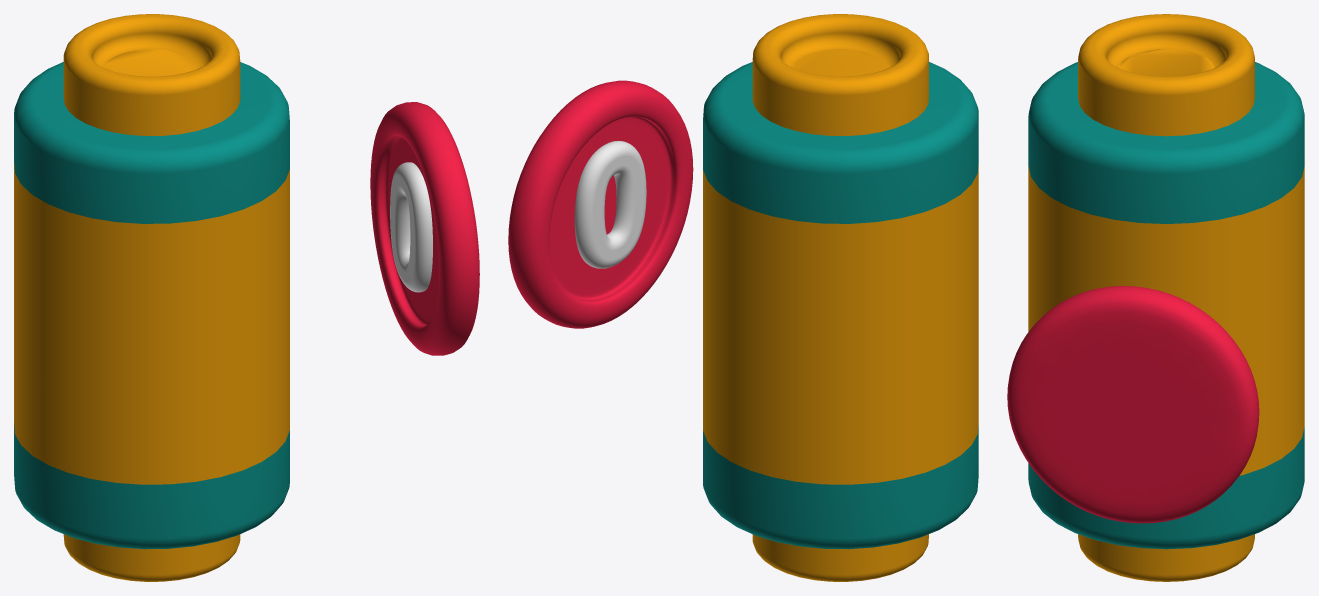
Rendered from empty-camera-roll-3d-animated-icon-1515088763290.glb.
3 views of the same model, side by side, from view 1: azimuth 30°, elevation 25°; view 2: azimuth 150°, elevation 25°; view 3: azimuth 270°, elevation 25° (orthographic).
Visible parts, largest first — view 1: CAMERA ROLL, Cylinder.001, X SIGN, Text; view 2: CAMERA ROLL, X SIGN, Cylinder.001, Text; view 3: CAMERA ROLL, X SIGN, Cylinder.001.
Part boxes in pixels (<box>): CAMERA ROLL: <box>14,62,289,549</box>; Cylinder.001: <box>63,14,240,581</box>; X SIGN: <box>370,102,479,355</box>; Text: <box>390,162,432,292</box>; CAMERA ROLL: <box>703,62,978,549</box>; X SIGN: <box>508,80,693,328</box>; Cylinder.001: <box>752,14,928,581</box>; Text: <box>574,140,646,268</box>; CAMERA ROLL: <box>1028,62,1304,549</box>; X SIGN: <box>1007,286,1259,523</box>; Cylinder.001: <box>1078,14,1254,581</box>.
Bounding box in the file's own units: 0.7577 × 0.8813 × 0.4737.
